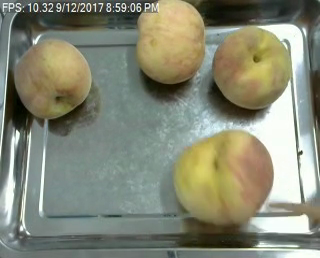Peach: (173, 129, 274, 227), (212, 26, 292, 109), (13, 38, 92, 120), (136, 0, 205, 85)
